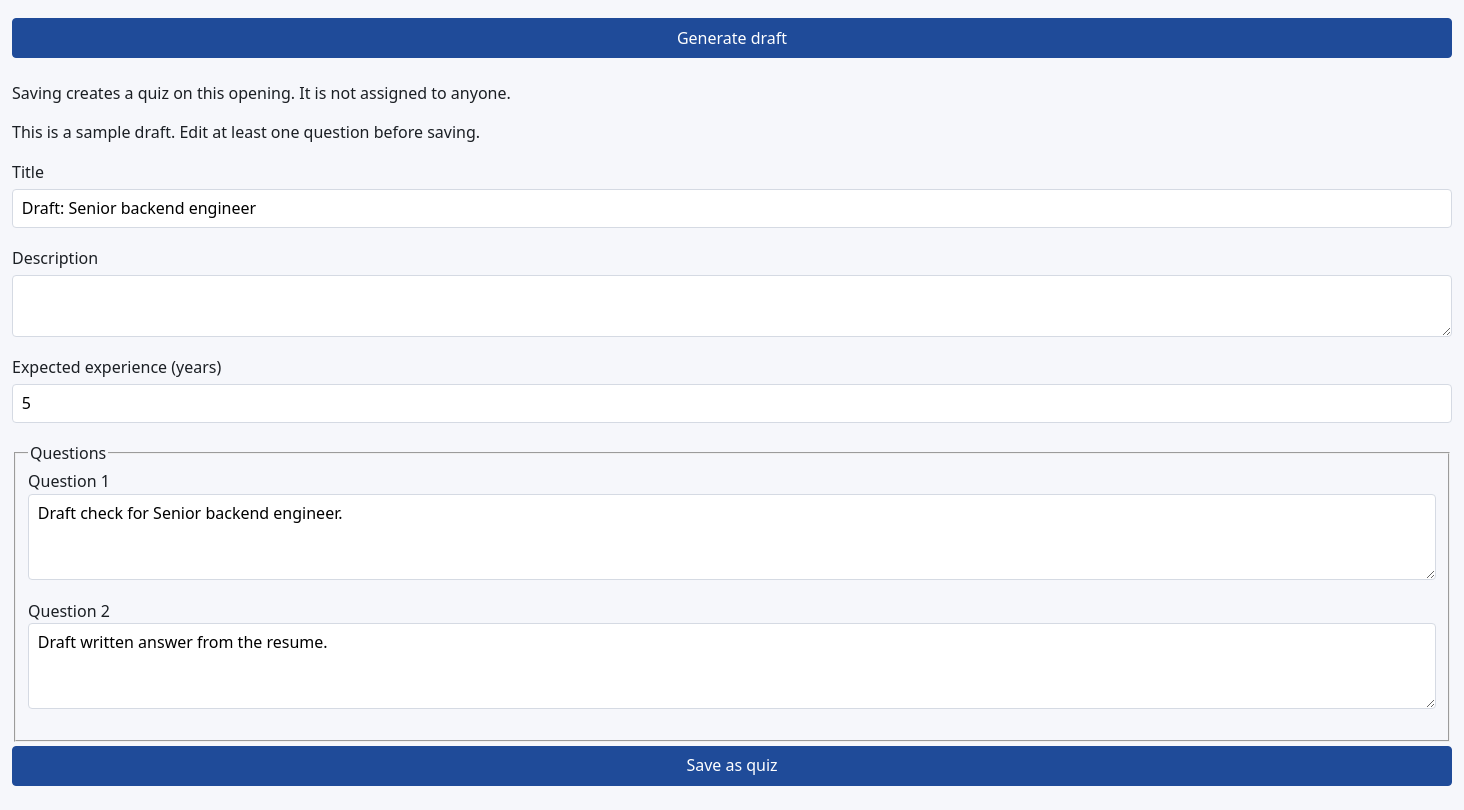
Scenario: AiDraftForm › shows the server message when the questions were not edited
(page scrolled)
Click the button with test id "ai-draft-save".
click(732, 766)  # box [12,746,1452,786]
(page scrolled)
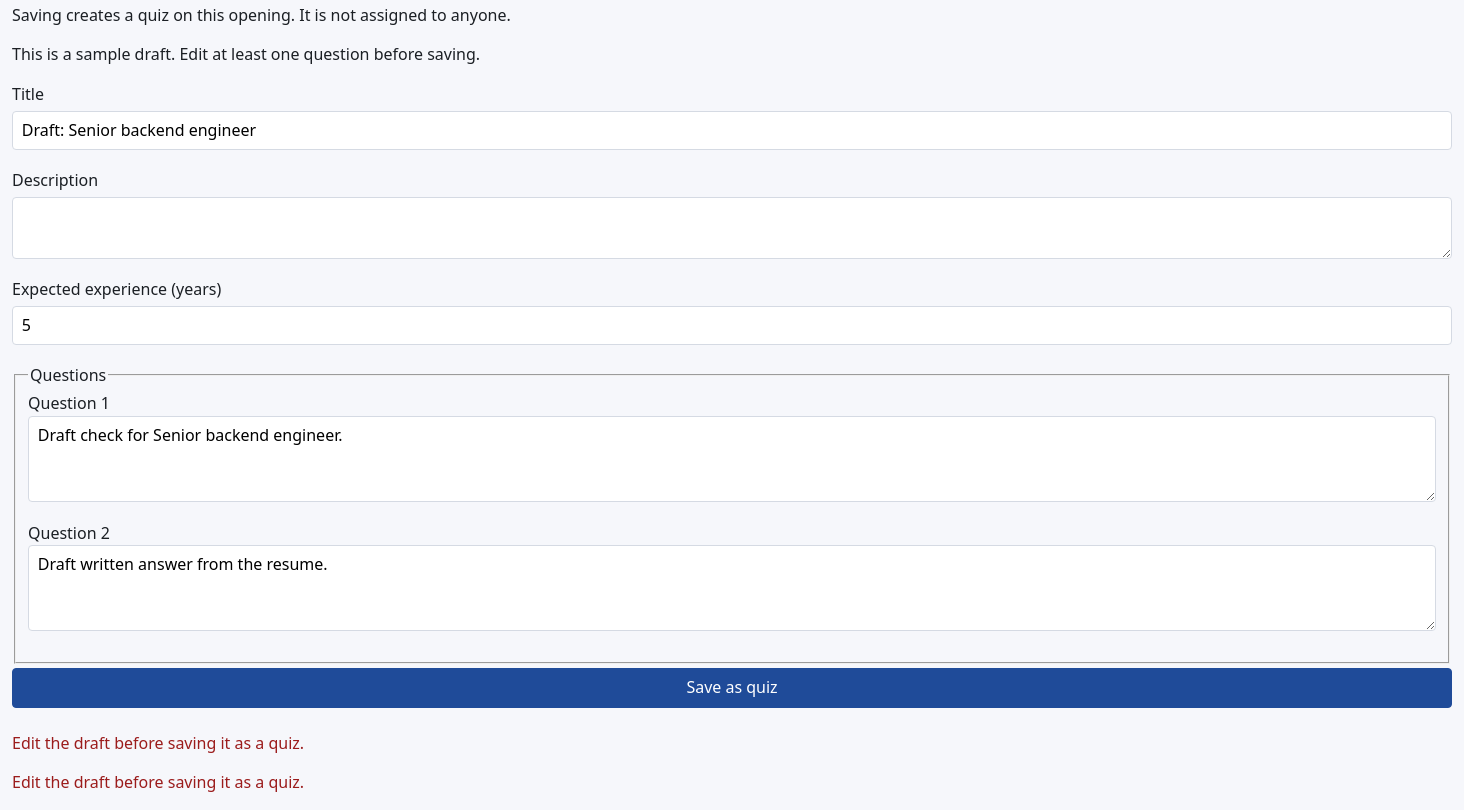
Now the text with test id "ai-draft-error" reads "Edit the draft before saving it as a quiz.", box [12,771,304,793]
